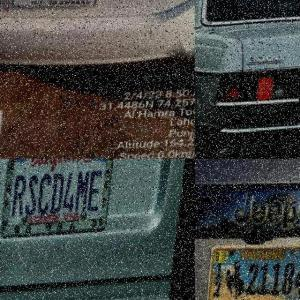Plate: (0, 158, 119, 244), (209, 248, 300, 300), (3, 0, 111, 24)
